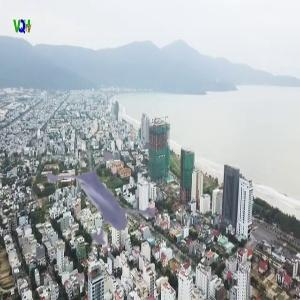drone: (22, 127, 173, 278)
